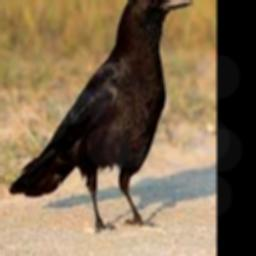Crow: (9, 0, 192, 231)
